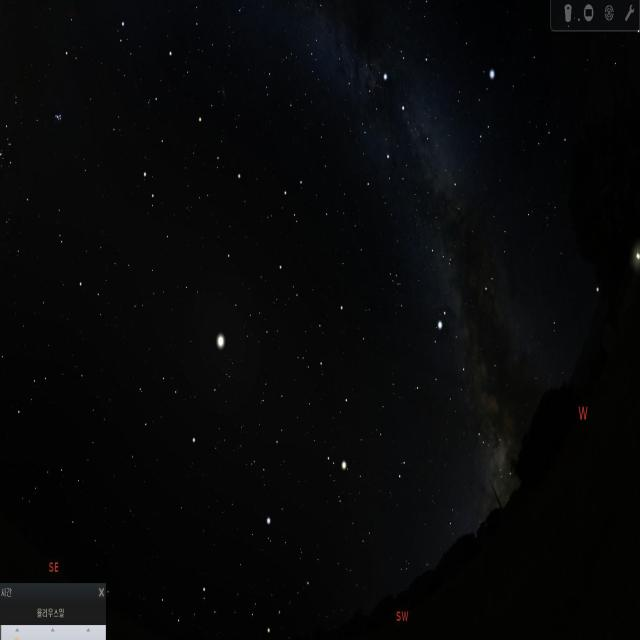aquila: (408, 311, 501, 448)
cygnus: (377, 42, 462, 188)
lyra: (468, 58, 501, 162)
pleiades: (47, 101, 68, 133)
